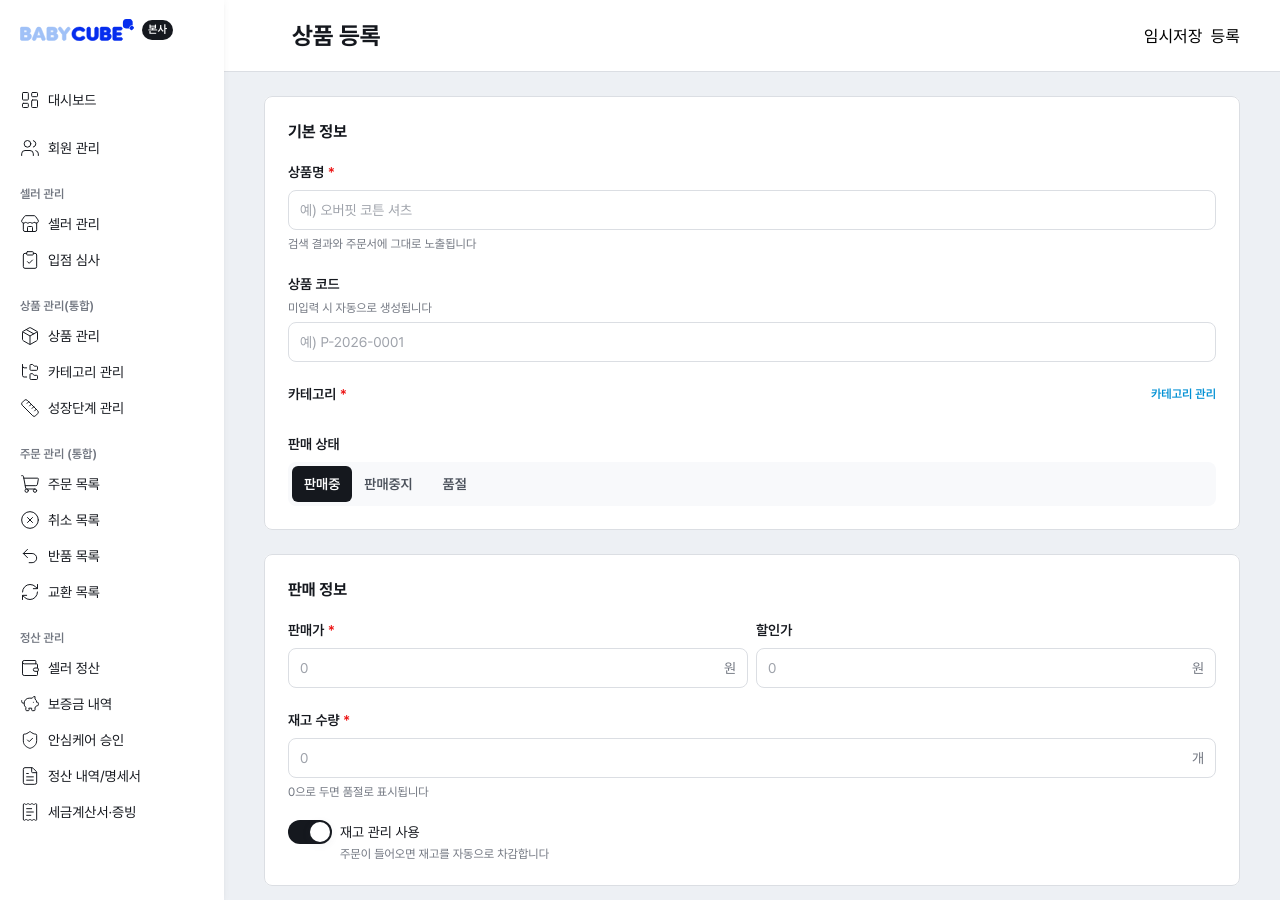
Test: ProductFormPage › 필수 검증 › 할인가가 판매가 이상이면 에러를 띄운다
This screenshot has width=1280, height=900.
Type "10000" into the field labelled "판매가" at [508, 668], box left=300, top=656, right=716, bottom=680
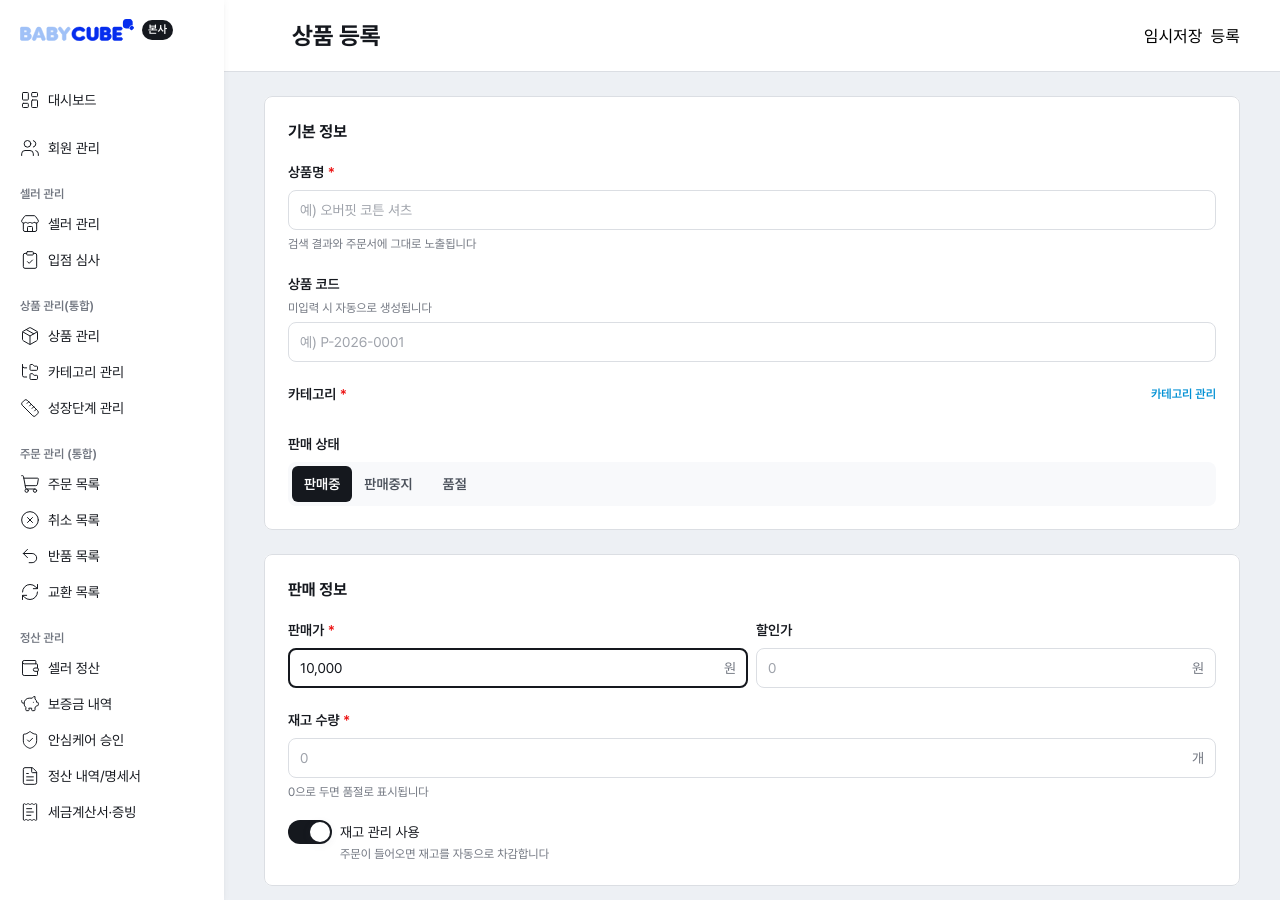
Type "20000" into the field labelled "할인가" at [976, 668], box left=768, top=656, right=1184, bottom=680
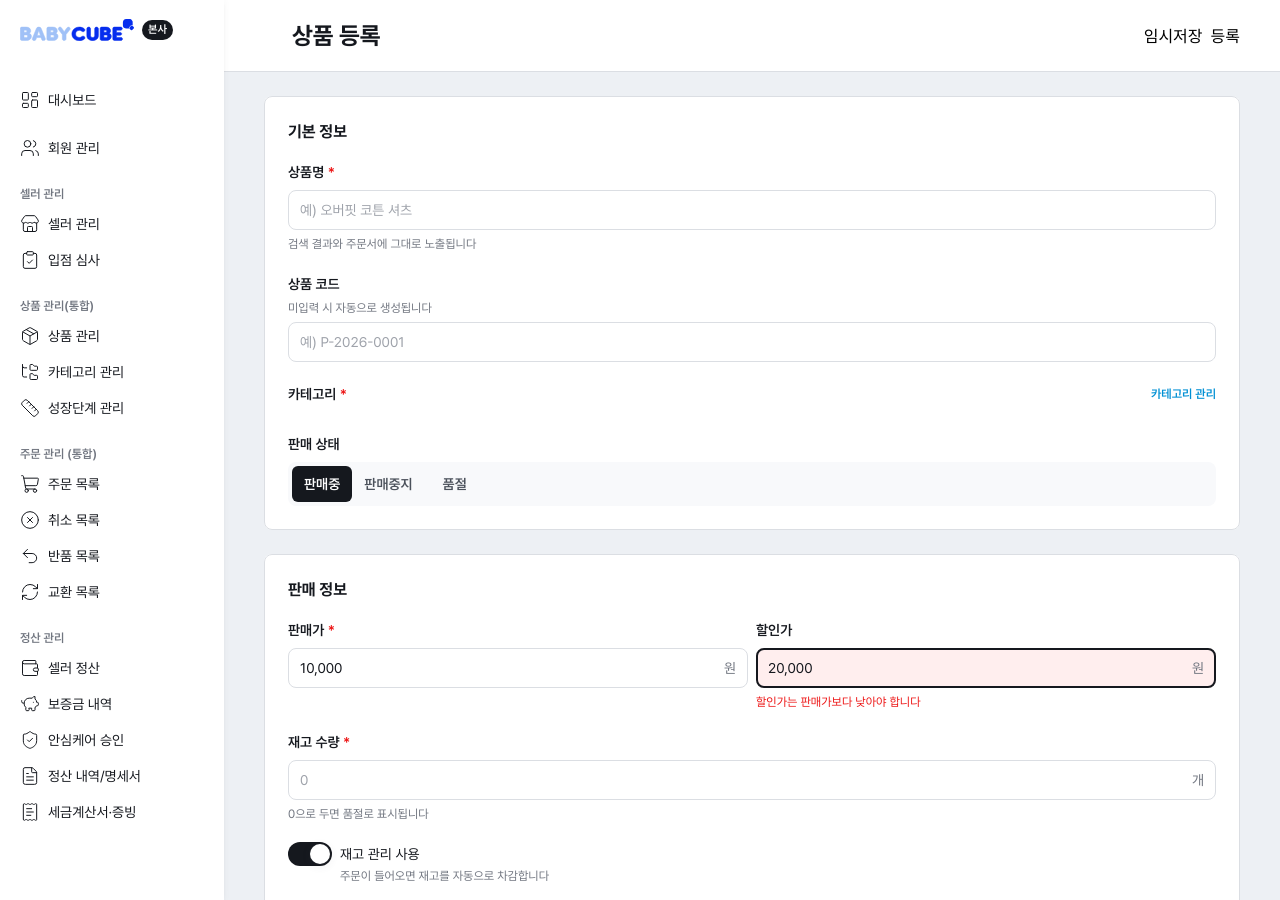
expect the field labelled "판매가" holds "10,000": met, box left=300, top=656, right=716, bottom=680
expect the text "할인가는 판매가보다 낮아야 합니다" is shown: met, box left=756, top=695, right=921, bottom=709
